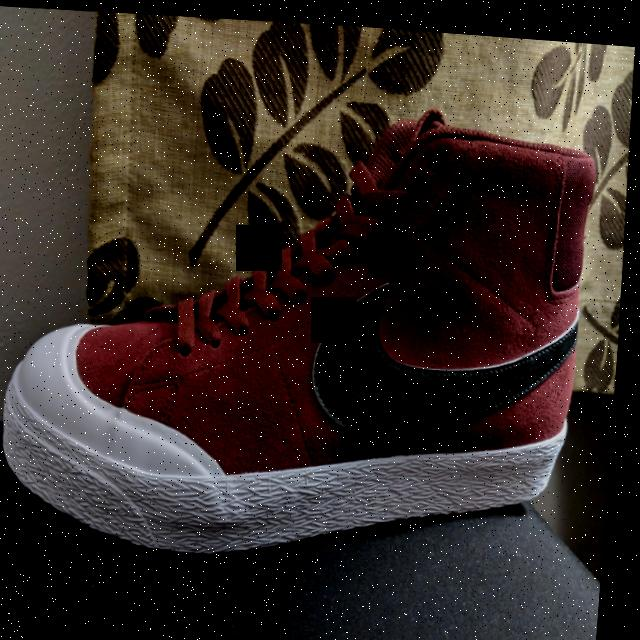shoes: (0, 69, 620, 589)
